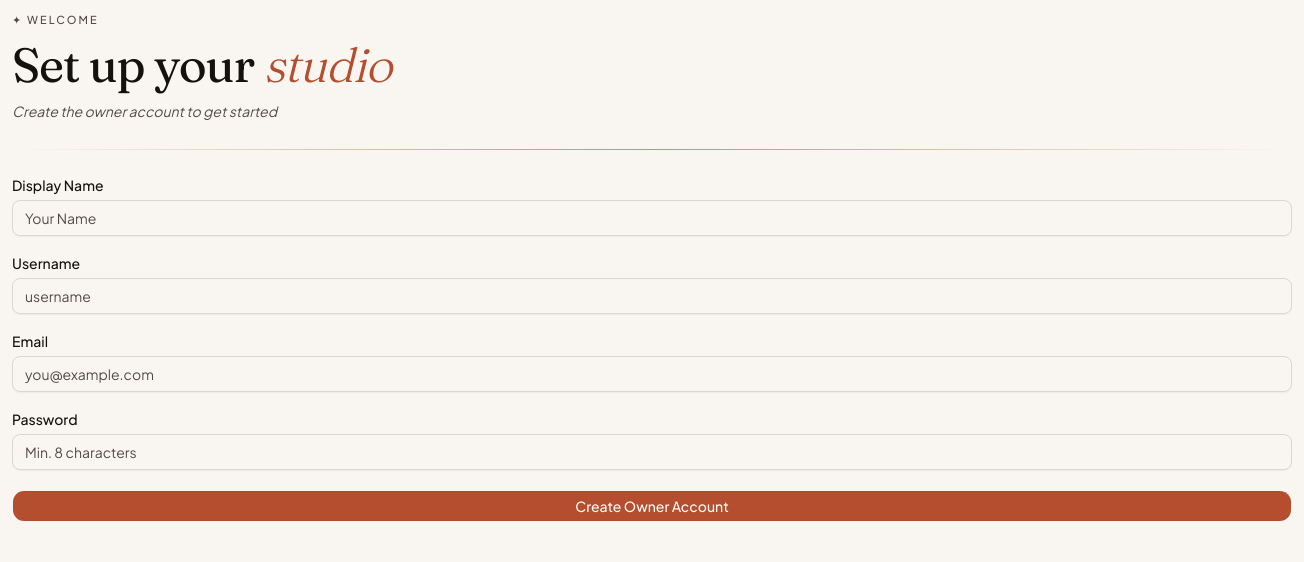
Test: SetupForm › shows field error when username is too short
Type "Owner User" into the field labelled "Display Name" at (652, 218), box [12,200,1292,236]
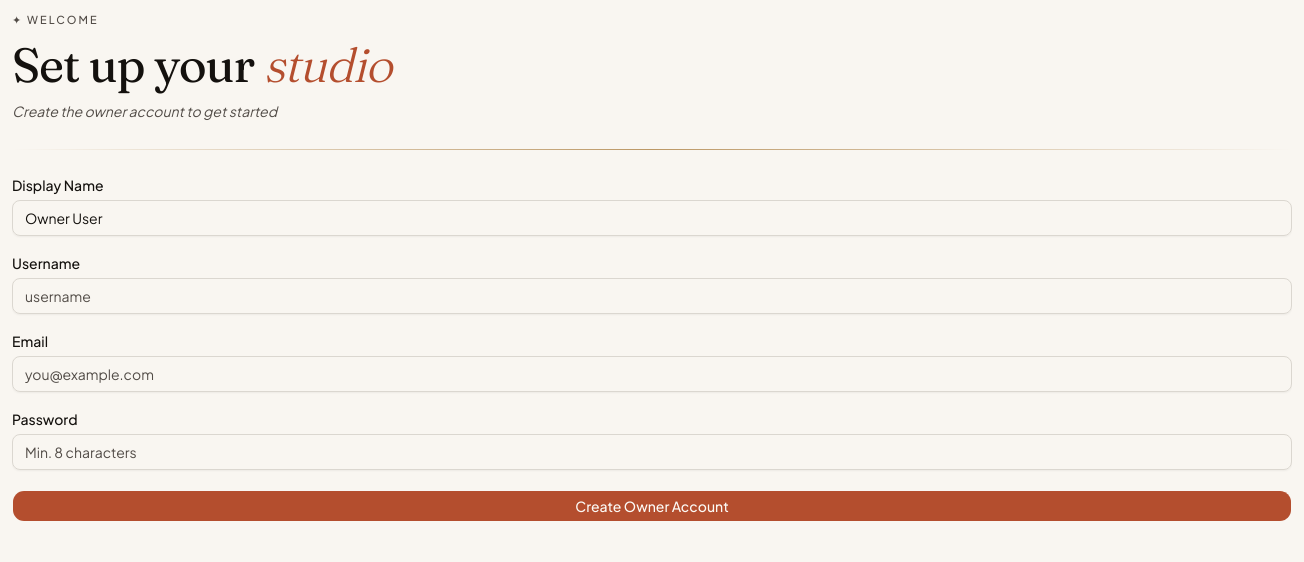
Type "ab" into the field labelled "Username" at (652, 296), box [12,278,1292,314]
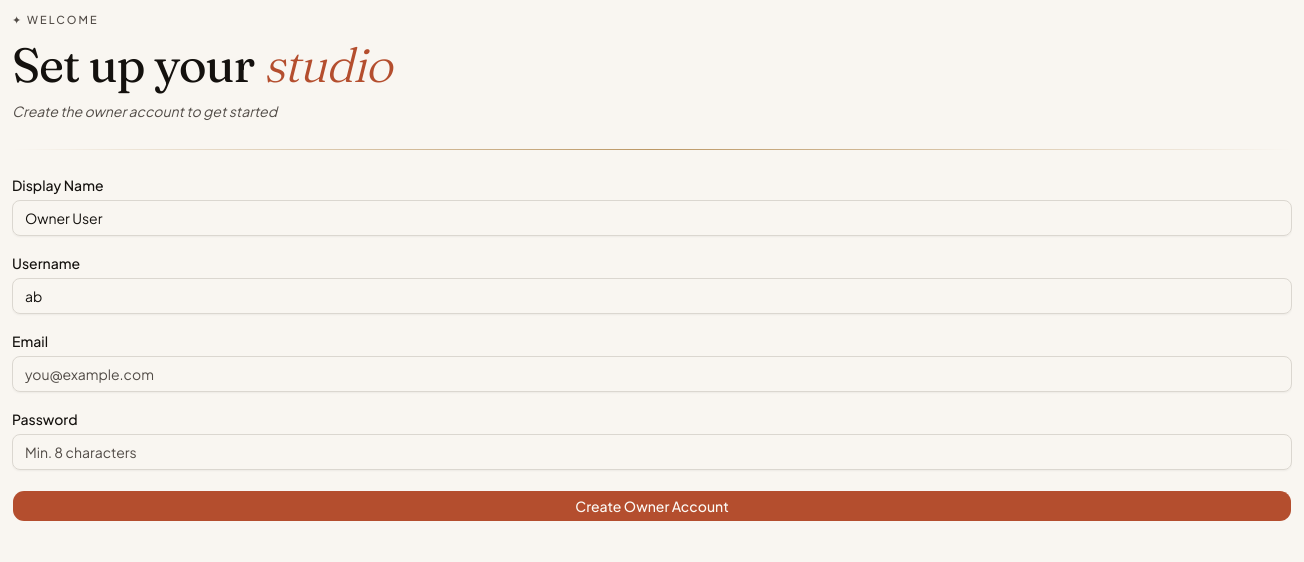
Type "owner@test.com" into the field labelled "Email" at (652, 374), box [12,356,1292,392]
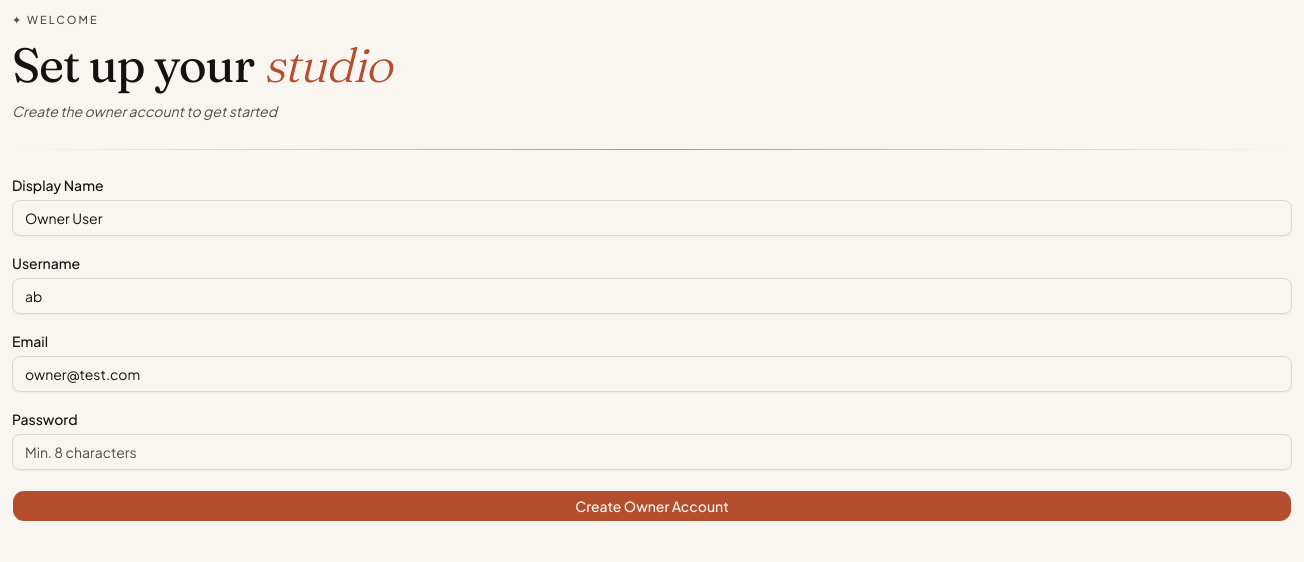
Type "password123" into the password field labelled "Password" at (652, 452), box [12,434,1292,470]
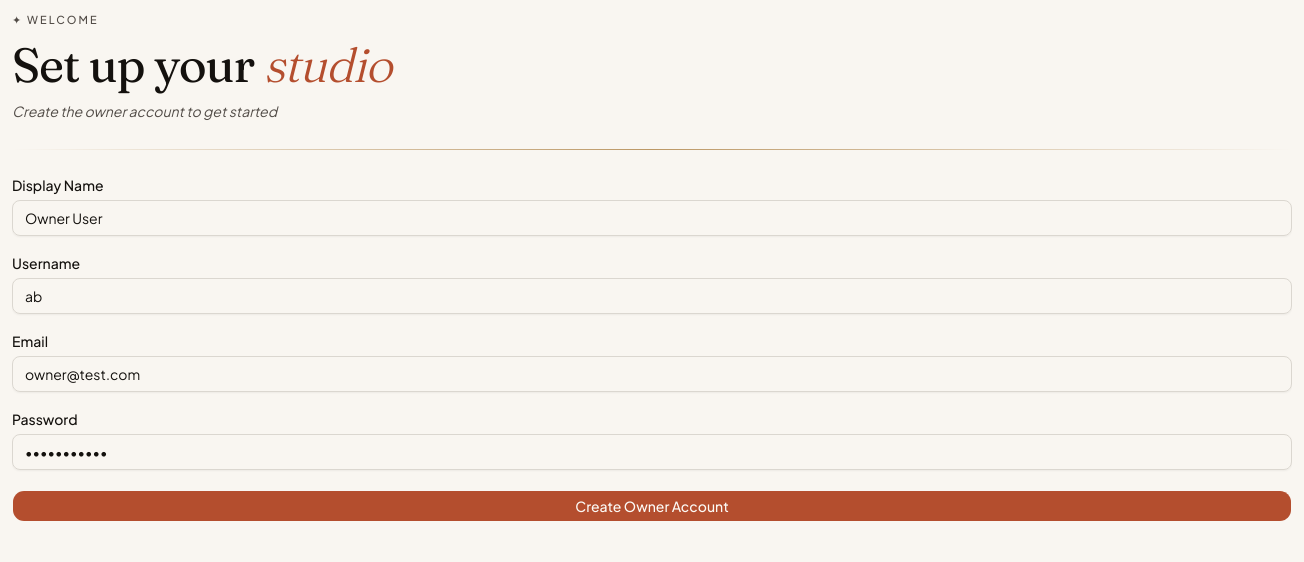
Click the button "Create Owner Account" at (652, 506), box [12,490,1292,522]
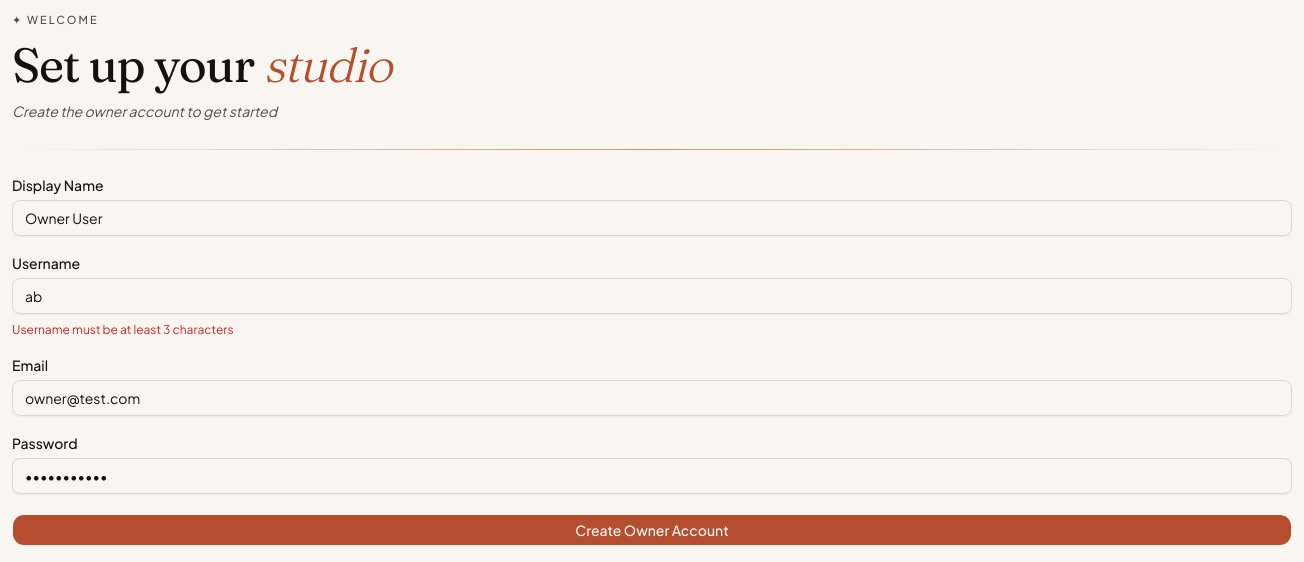
Result: the text "Username must be at least 3 characters" is shown at [12,322,234,336]
